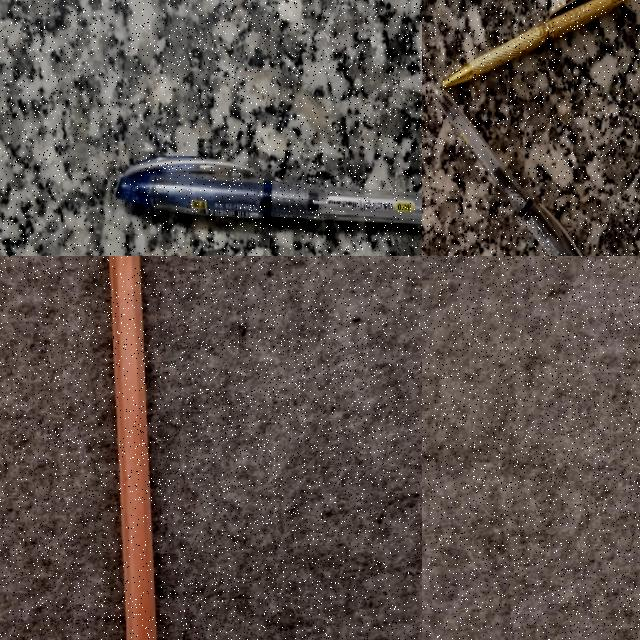pen: (434, 78, 591, 256), (116, 157, 421, 223)
pencil: (109, 256, 155, 639)
signature pen: (438, 0, 640, 88)
